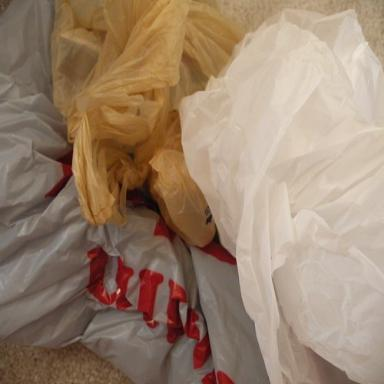plasticbag: (185, 26, 384, 373)
